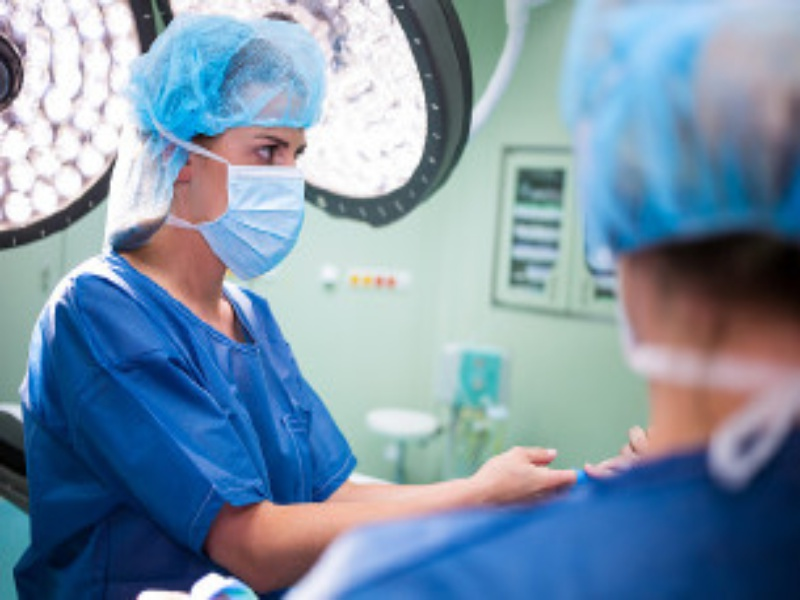mask: (126, 52, 324, 285)
